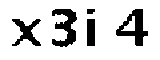3: (49, 7, 79, 48)
4: (112, 5, 154, 53)
i: (83, 7, 104, 49)
x: (8, 16, 43, 51)
